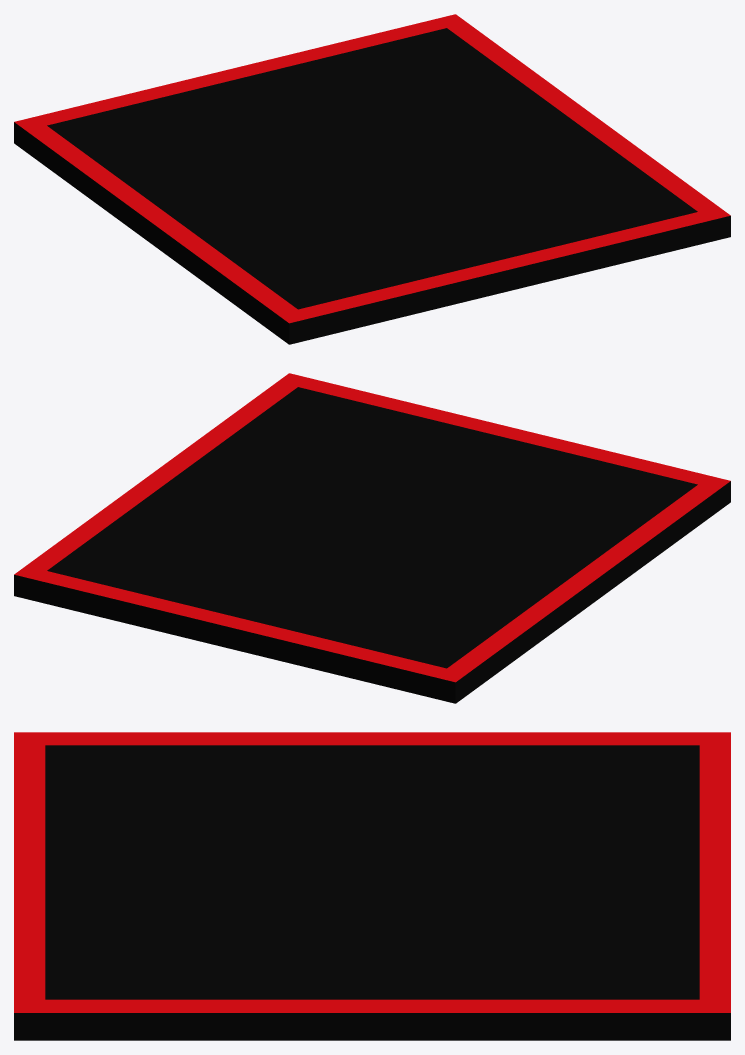
The model's file is yer.fbx.
3 views of the same model, one above another, from view 1: azimuth 30°, elevation 25°; view 2: azimuth 150°, elevation 25°; view 3: azimuth 270°, elevation 25° (orthographic). The views are drawn at different scales.
Parts seen in each view (by area): view 1: Cube.011; view 2: Cube.011; view 3: Cube.011.
Boxes of the visible parts, box(x1,y1,x2,y2) form: Cube.011: box(14, 14, 730, 344); Cube.011: box(14, 373, 730, 703); Cube.011: box(14, 732, 730, 1040).
Size of the model in its own units: 2132 by 98.9 by 2302.
